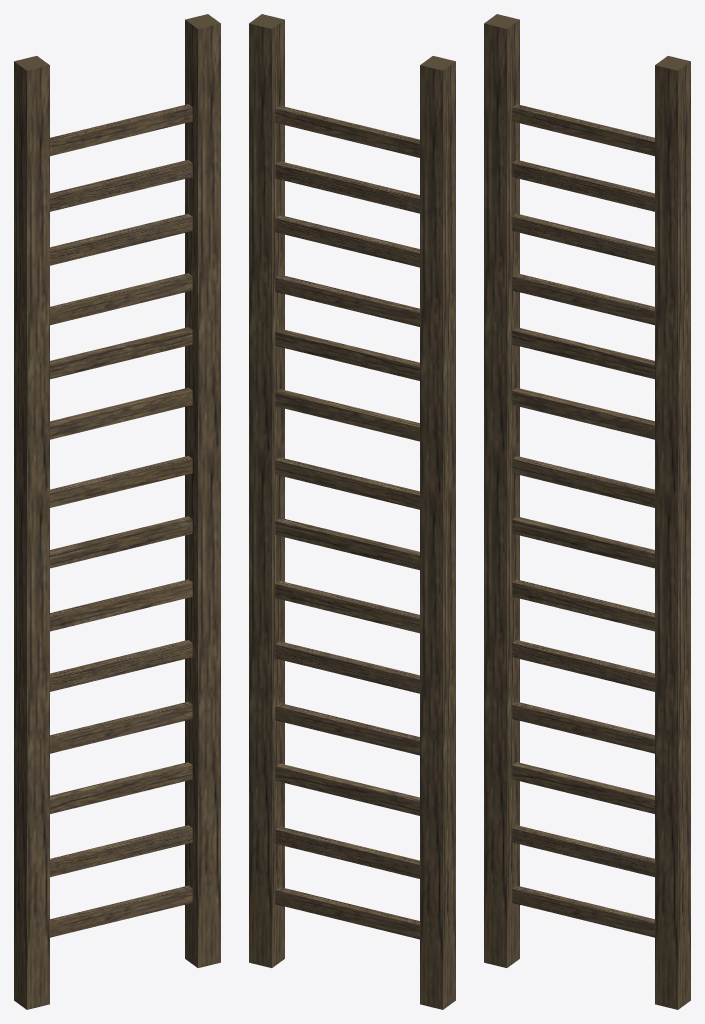
The model's file is lader.fbx.
The picture shows the model from 3 angles, left to right: view 1: azimuth 30°, elevation 25°; view 2: azimuth 150°, elevation 25°; view 3: azimuth 330°, elevation 25°; orthographic projection.
Parts seen in each view (by area): view 1: lader; view 2: lader; view 3: lader.
Part boxes in pixels (x1,y1,x2,y2): lader: (14, 14, 220, 1009); lader: (249, 14, 455, 1009); lader: (484, 14, 690, 1009).
Size of the model in its own units: 99.91 by 462 by 11.56.
